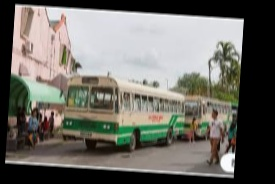bus: (59, 72, 185, 156), (182, 95, 235, 143)
